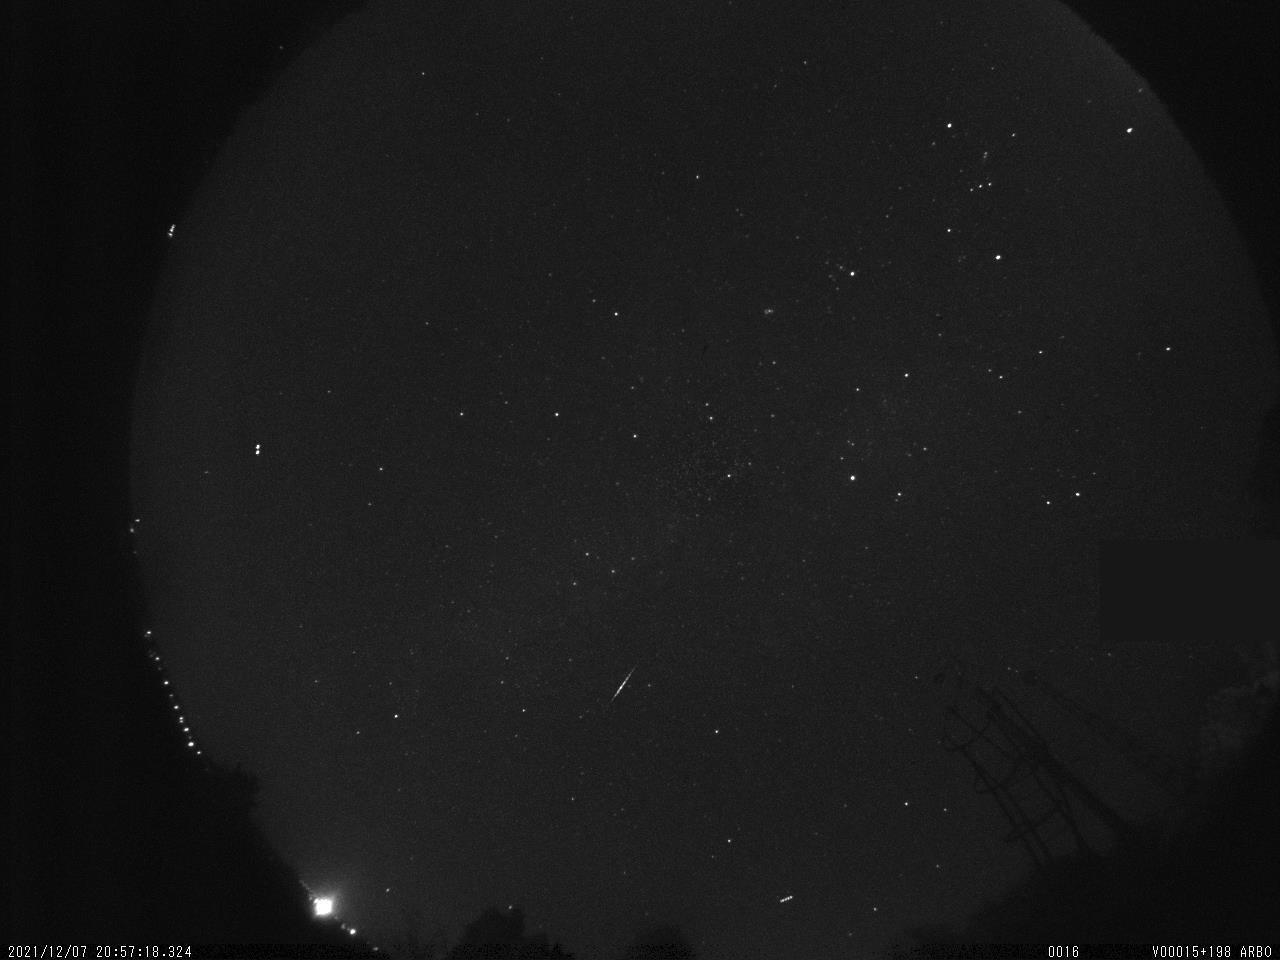Meteor: (606, 652, 646, 714)
